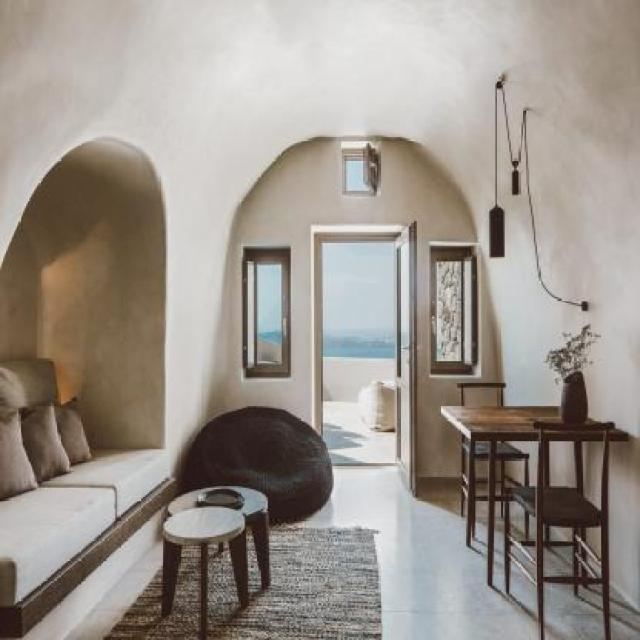floor: (206, 400, 603, 640)
